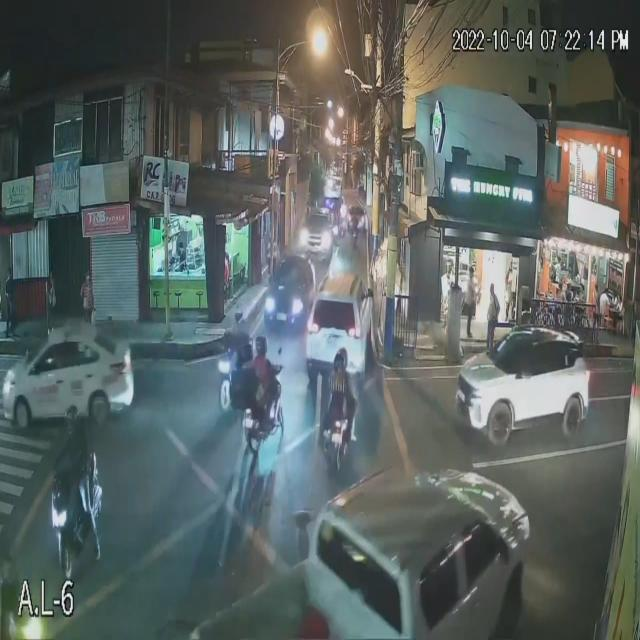Full-Faced: (63, 402, 80, 434), (332, 352, 347, 380), (254, 337, 270, 358), (232, 301, 246, 325)
